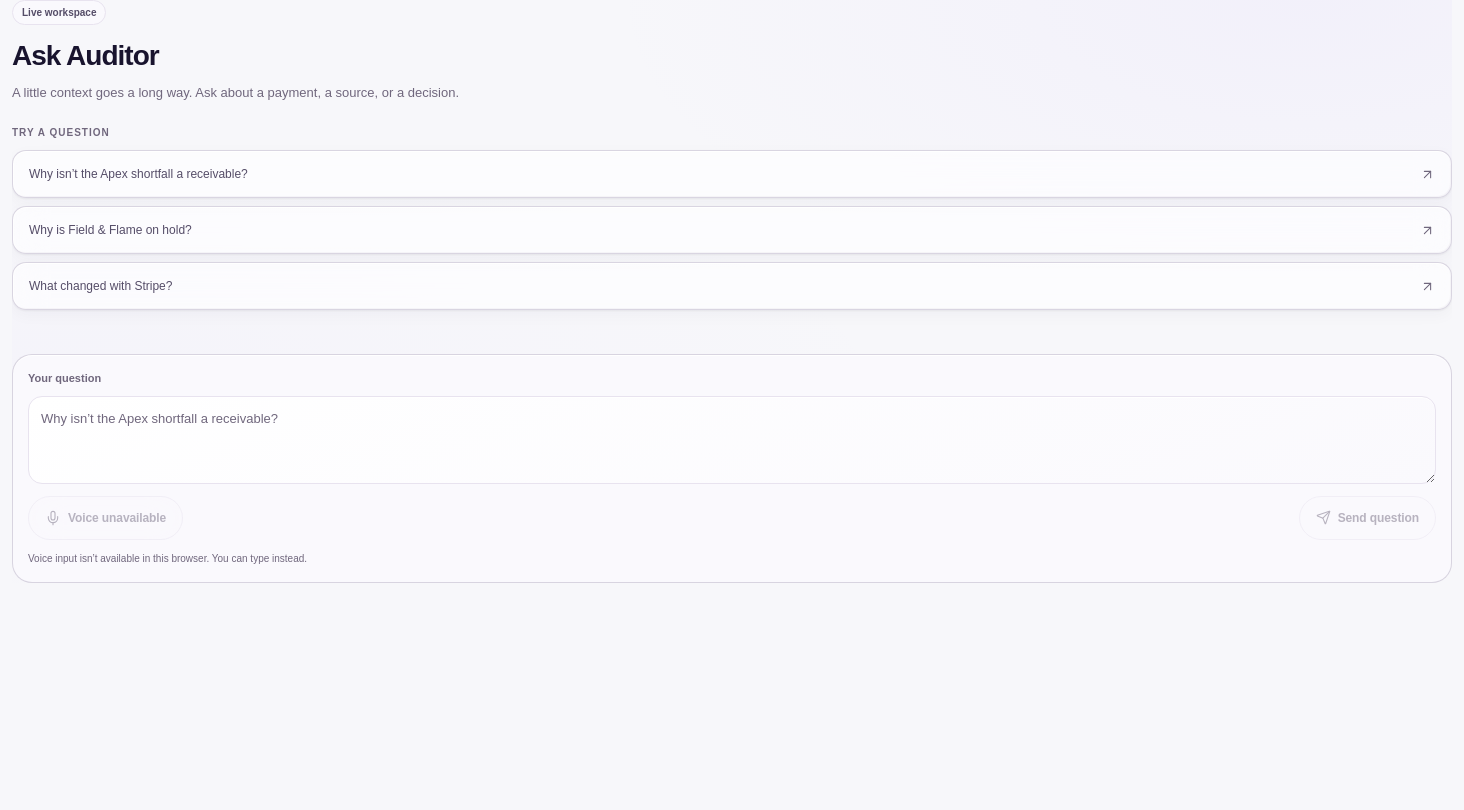
source-backed answers and workspace boundaries › does not present an unsupported live answer when the backend supplies no citations
The image size is (1464, 810).
Type "What supports this entry?" into the text box labelled "Your question". click: (732, 440)
box: [28,396,1436,484]
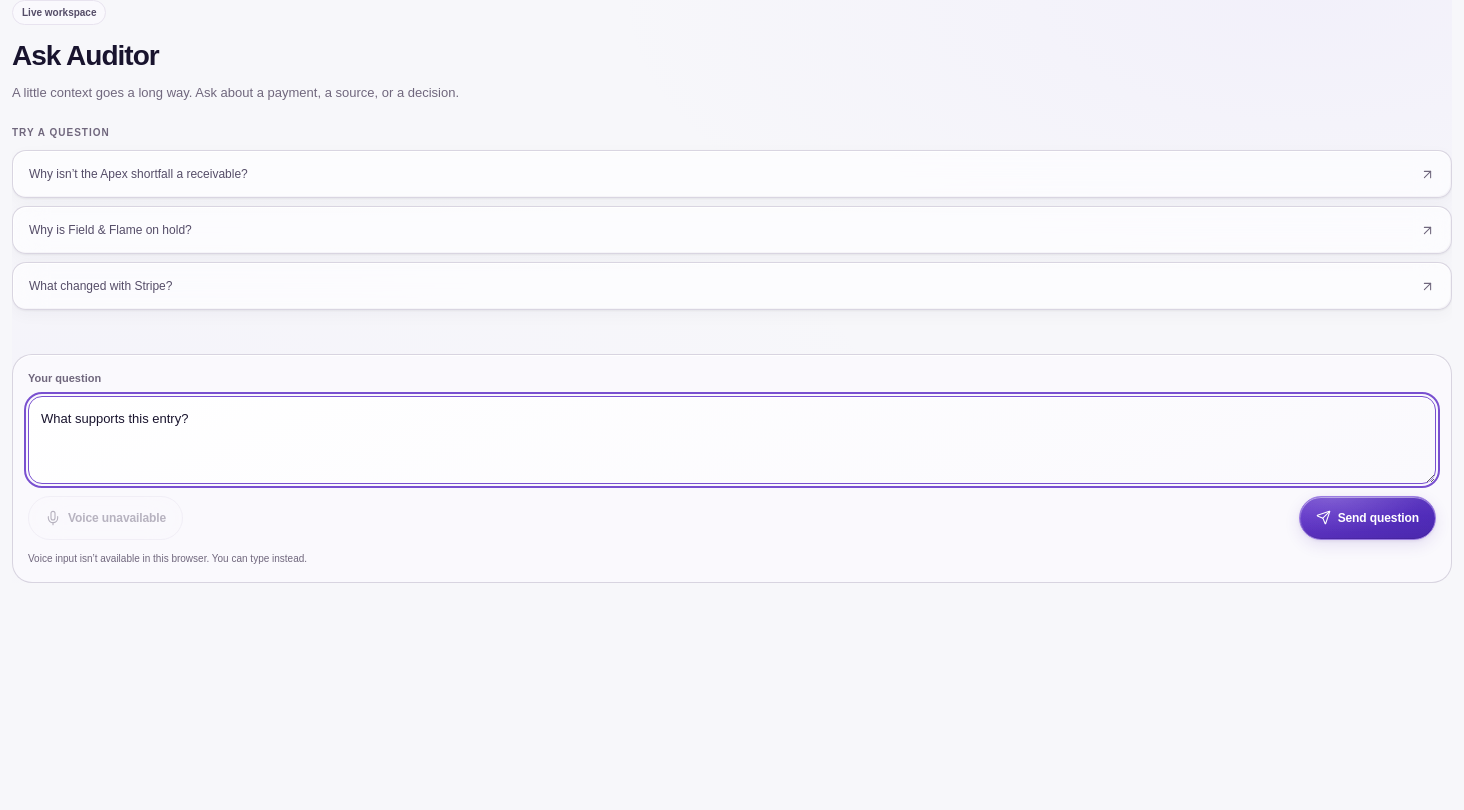
Click the button "Send question". click: (1367, 518)
box: [1299,496,1436,540]
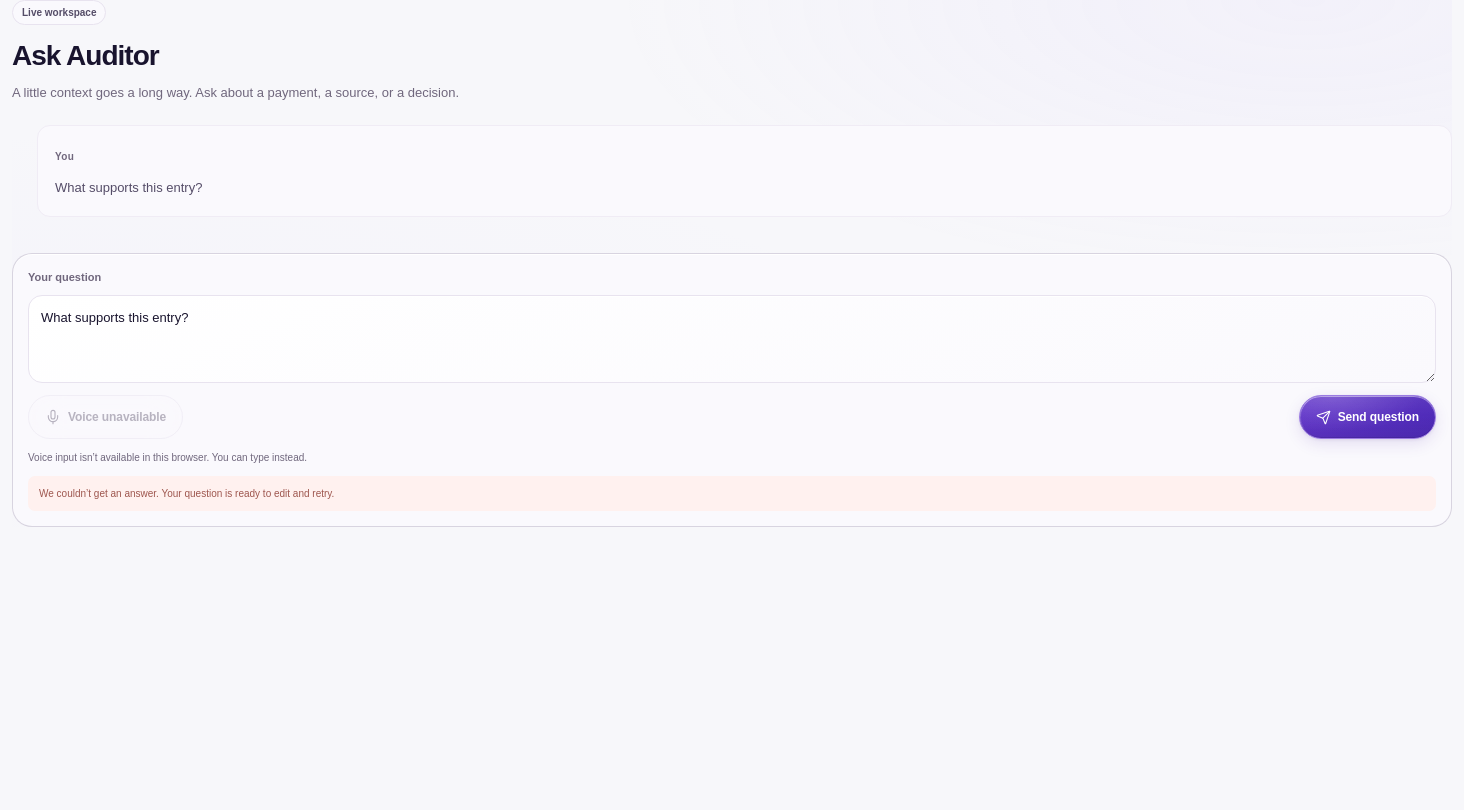
Now the message "We couldn’t get an answer. Your question is ready to edit and retry." is shown, box [28,476,1436,511]
